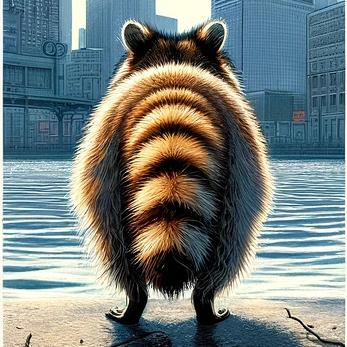raccoon: (53, 4, 292, 342)
